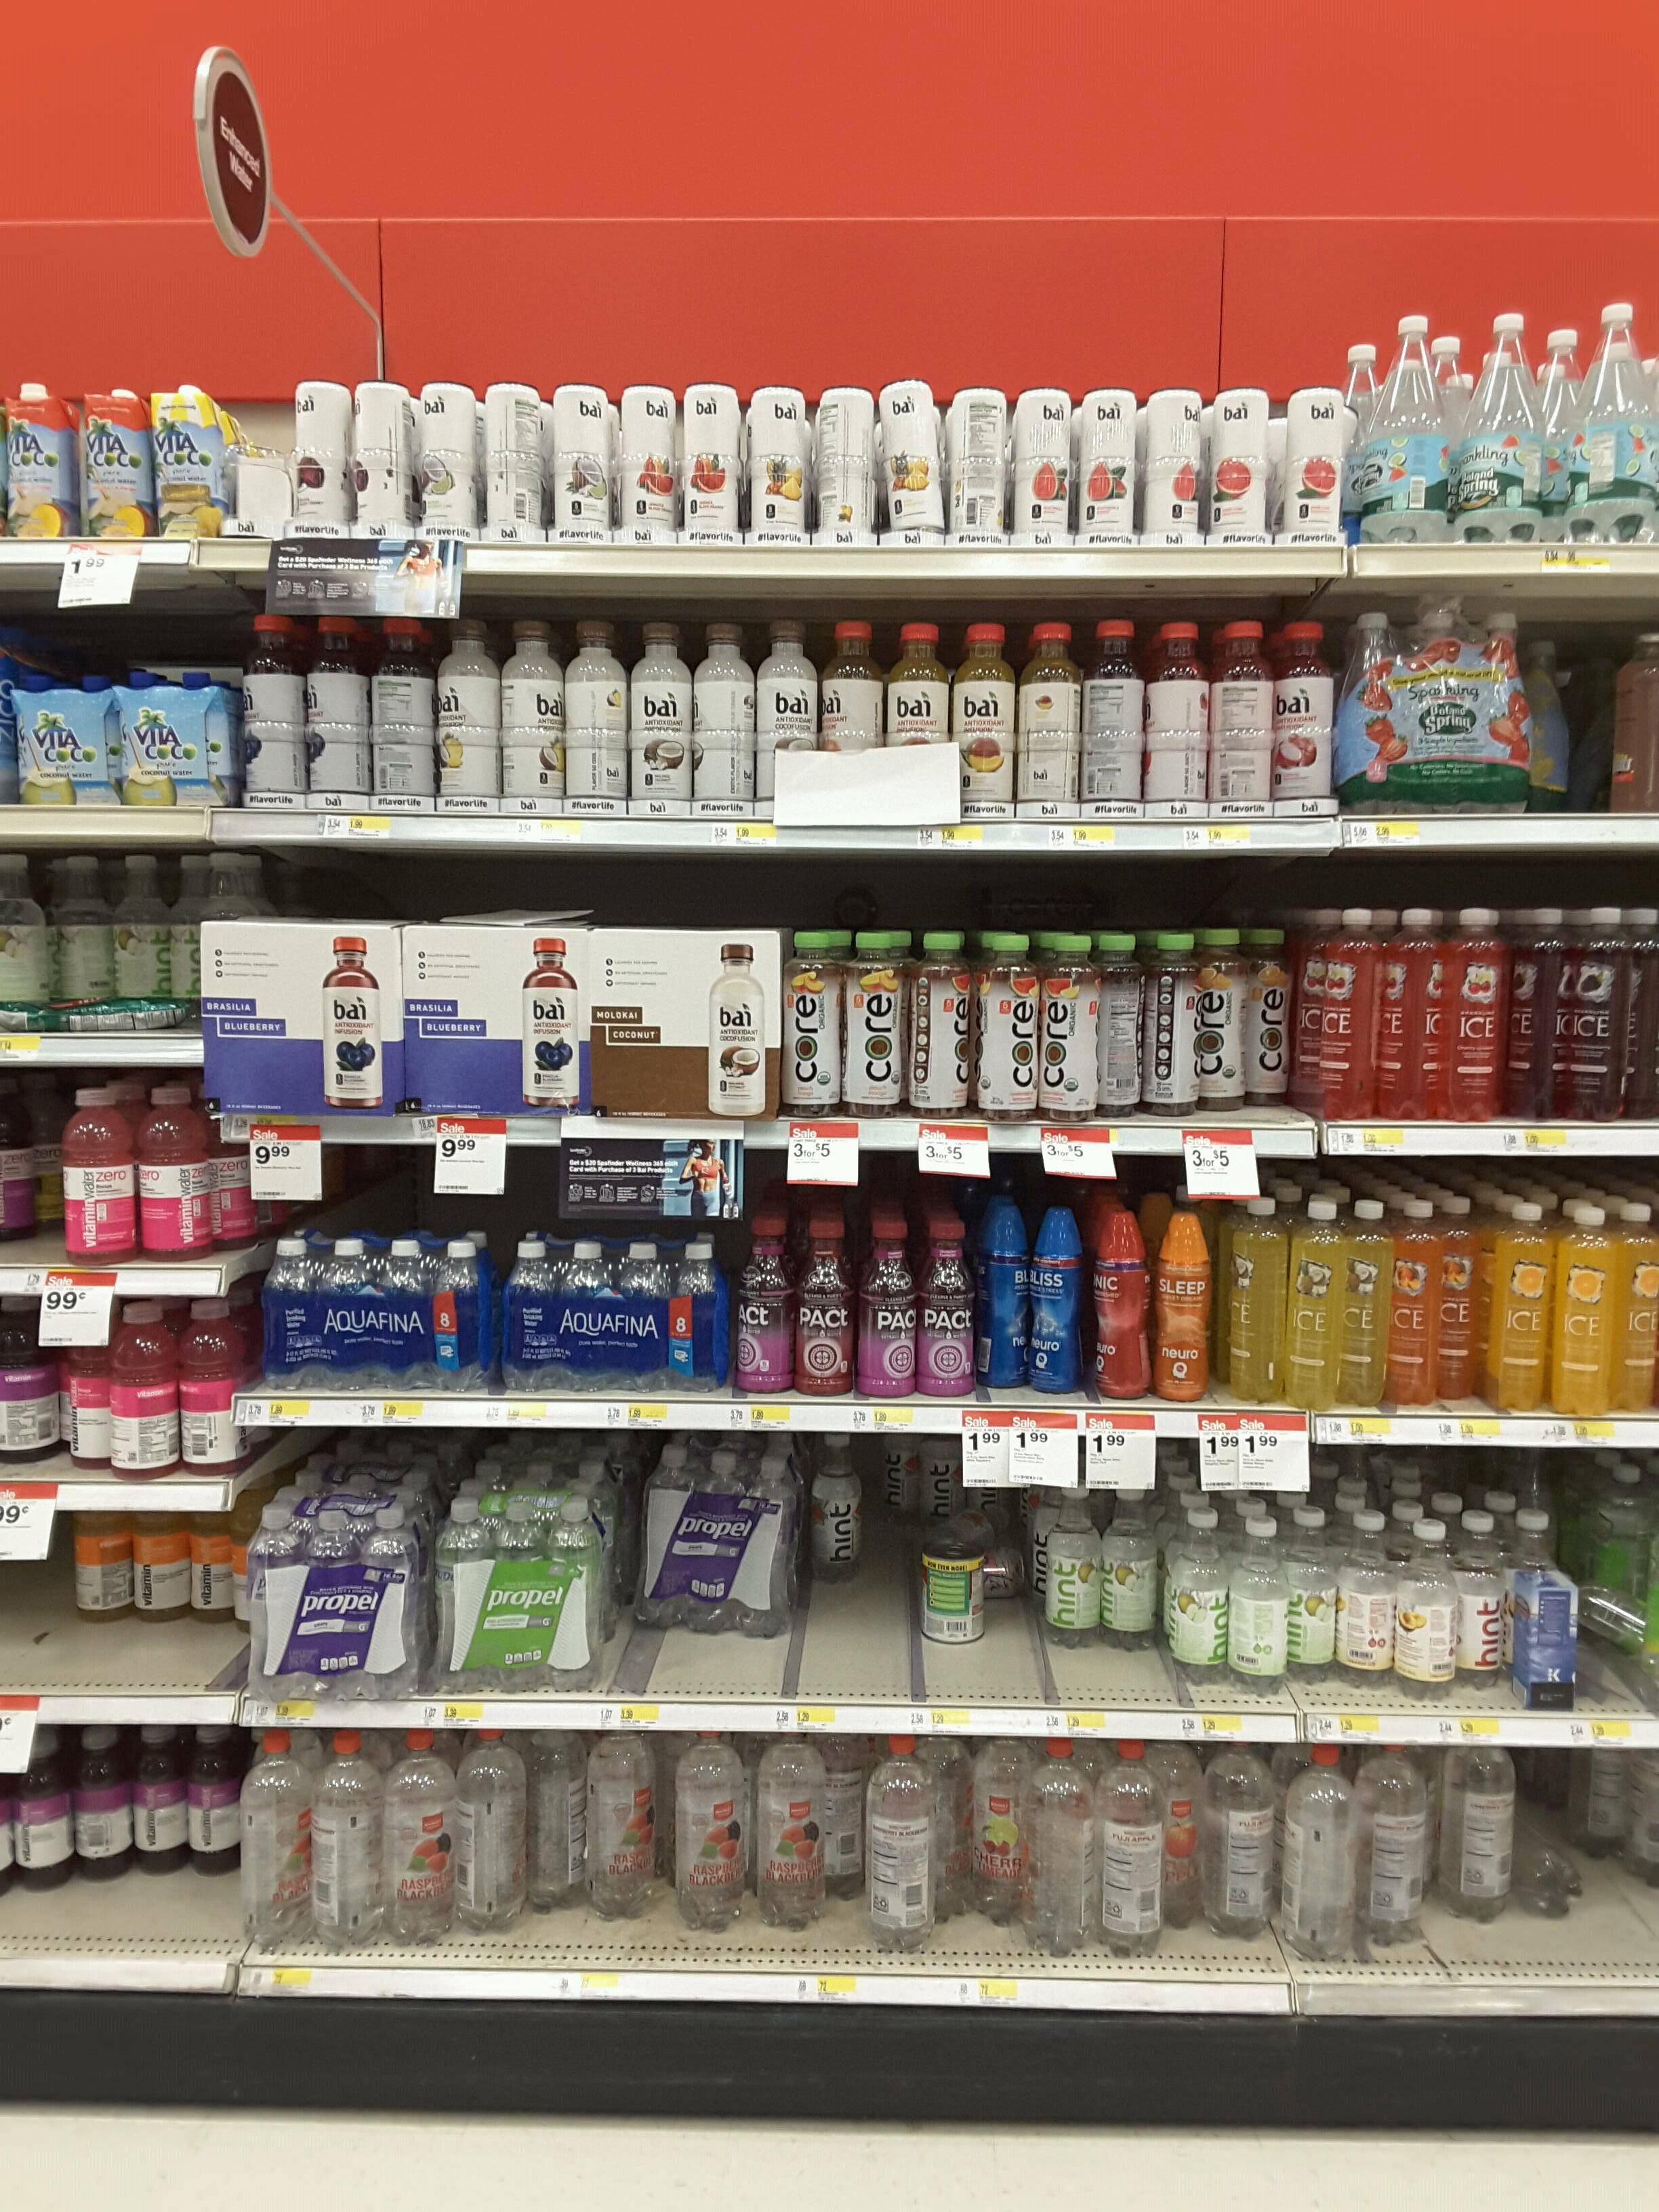Misplacement: (601, 1433, 784, 1700)
